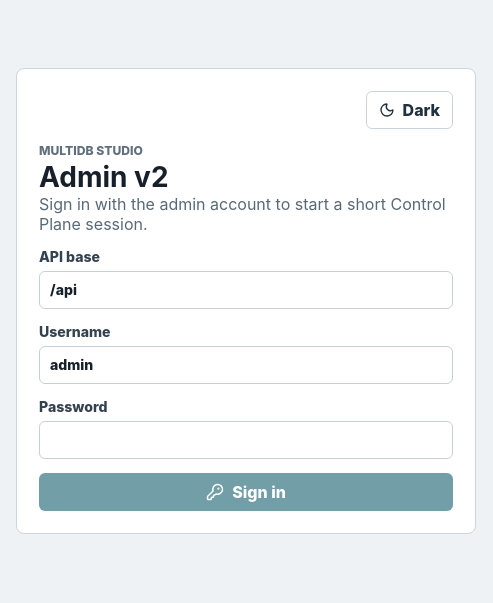
Test case: App › shows a neutral login failure without creating a session
The image size is (493, 603).
Type "wrong" into the password field labelled "Password".
click(246, 440); type("wrong")  # box [39, 421, 453, 459]
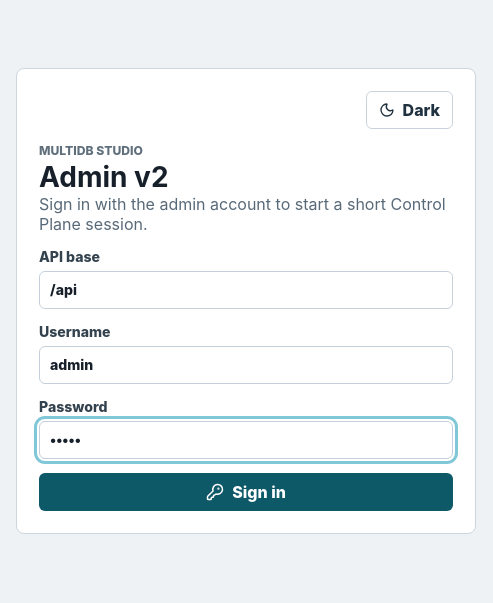
Click the button "Sign in".
click(246, 492)  # box [39, 473, 453, 511]
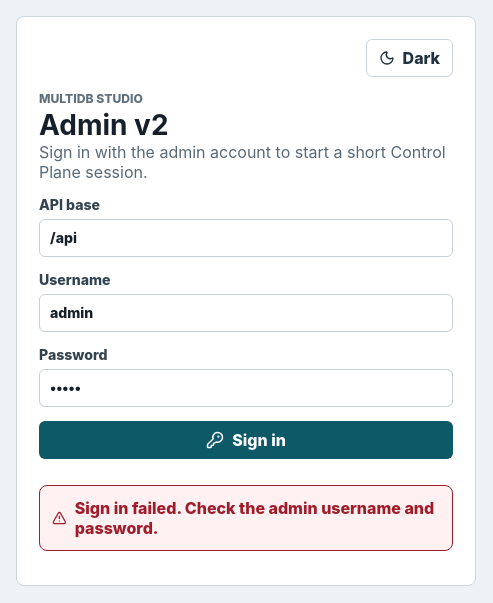
Check: the text "Sign in failed. Check the admin username and password." is shown, box [75, 498, 440, 538]
